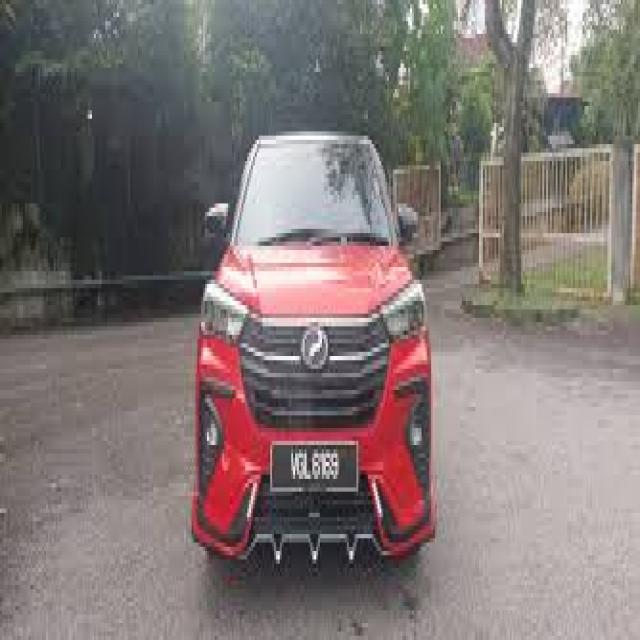PeroduaAtiva: (188, 123, 437, 568)
